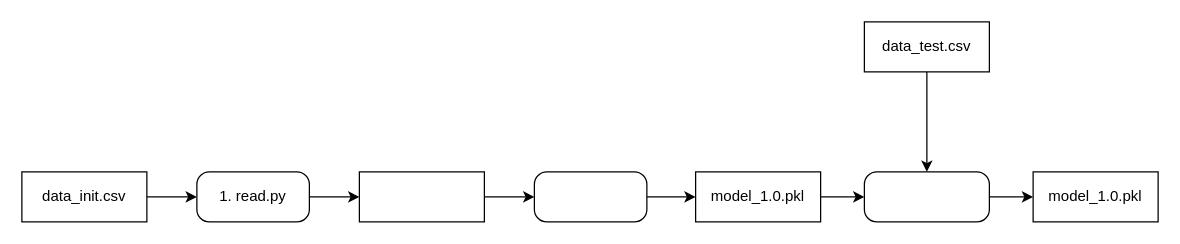
This 1180x244 diagram has some shape labels left out. Here are the shapes that lost their labels. From the top down, the centre of each, then its label:
At point 421,196: "data_train.csv".
At point 590,196: "2. train.py".
At point 926,196: "3. evaluate.py".
